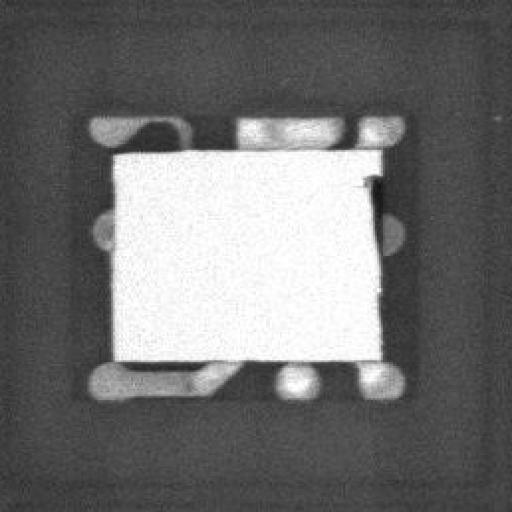DIE_BROKEN: (357, 169, 381, 248)
